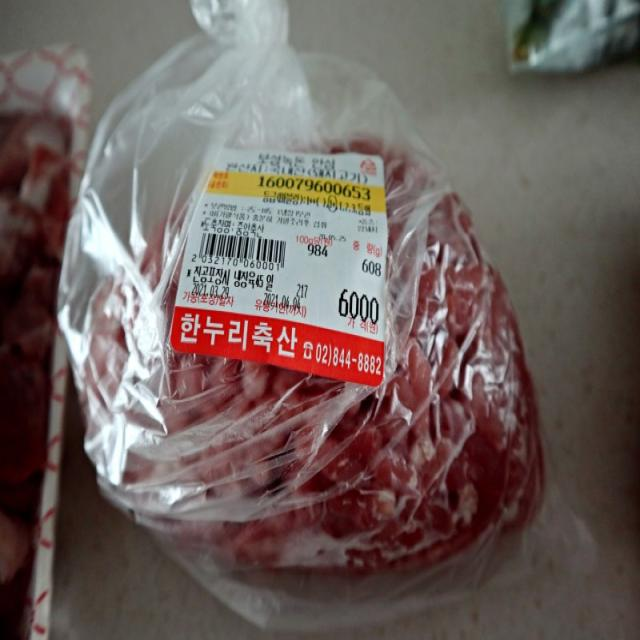pork: (64, 154, 561, 585)
